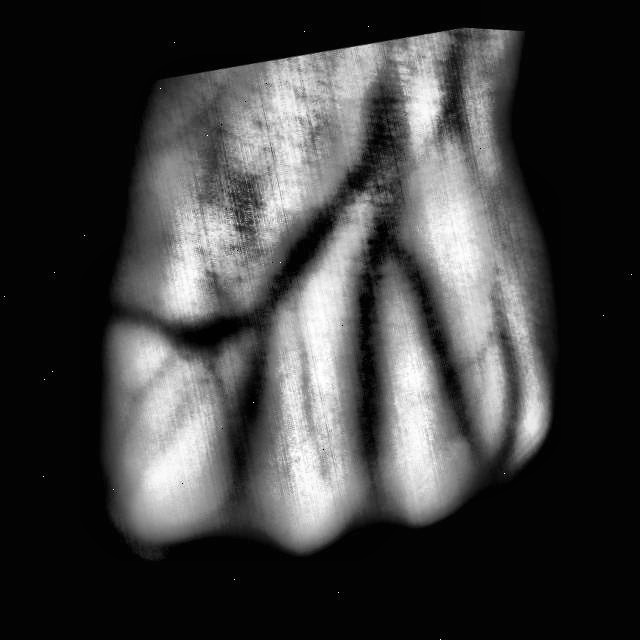Vein: (230, 107, 405, 353)
